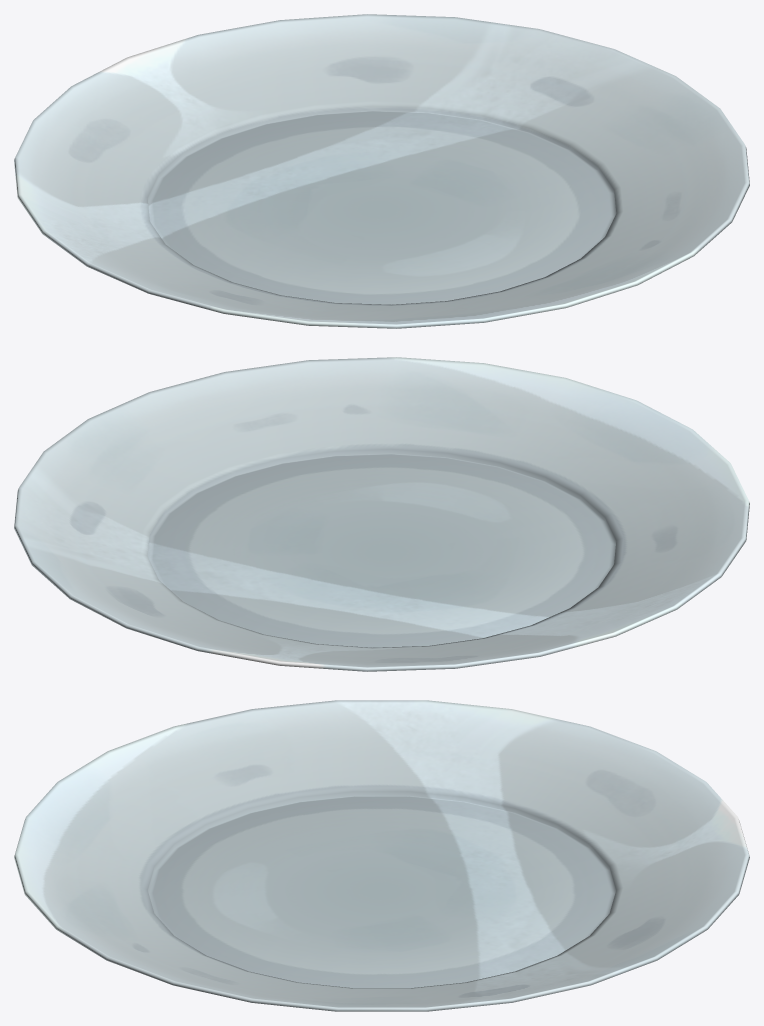
File: Plate Med.fbx
3 renders of one model, top to bottom at view 1: azimuth 30°, elevation 25°; view 2: azimuth 150°, elevation 25°; view 3: azimuth 270°, elevation 25°, orthographic.
Parts seen in each view (by area): view 1: Plate Med; view 2: Plate Med; view 3: Plate Med.
Boxes of the visible parts, bbox=[...] form: Plate Med: bbox=[14, 14, 749, 328]; Plate Med: bbox=[14, 357, 749, 671]; Plate Med: bbox=[14, 700, 749, 1011].
Size of the model in its own units: 66.49 by 4.28 by 66.98.
